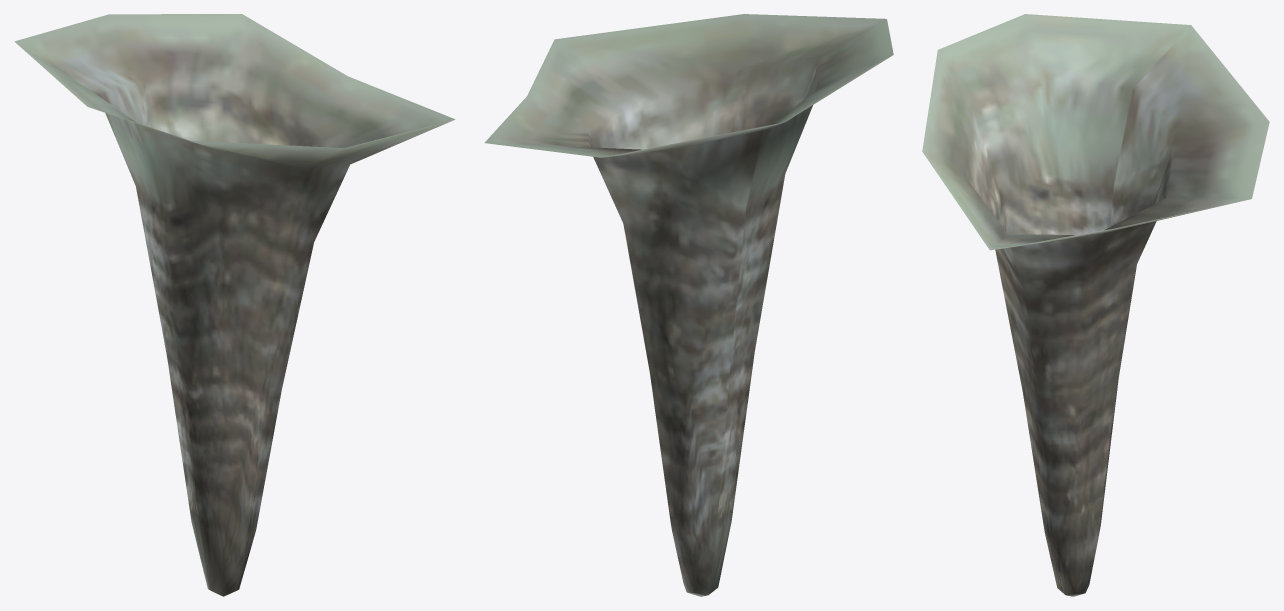
The model's file is TROLLHOLE02_PS-MAINSTALAG06.fbx.
3 renders of one model, left to right at view 1: azimuth 30°, elevation 25°; view 2: azimuth 150°, elevation 25°; view 3: azimuth 270°, elevation 25°, orthographic. The views are drawn at different scales.
Visible parts, largest first — view 1: TROLLHOLE02_PS-MAINSTALAG06; view 2: TROLLHOLE02_PS-MAINSTALAG06; view 3: TROLLHOLE02_PS-MAINSTALAG06.
Boxes of the visible parts, <box> form: TROLLHOLE02_PS-MAINSTALAG06: <box>14,14,455,596</box>; TROLLHOLE02_PS-MAINSTALAG06: <box>484,14,893,596</box>; TROLLHOLE02_PS-MAINSTALAG06: <box>922,14,1269,596</box>.
Bounding box in the file's own units: 27540 × 41320 × 25537.
1 material, 1 textured.
